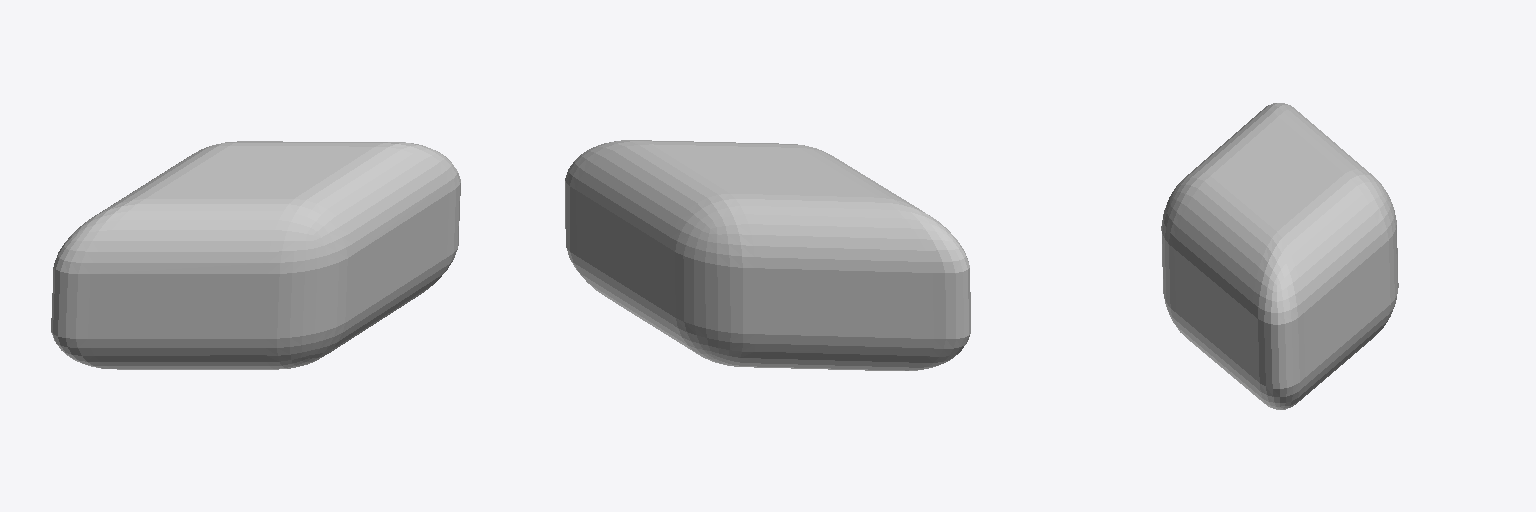
File: food.obj
The picture shows the model from 3 angles: view 1: azimuth 30°, elevation 25°; view 2: azimuth 150°, elevation 25°; view 3: azimuth 270°, elevation 25°; orthographic projection.
Visible parts, largest first — view 1: Cube; view 2: Cube; view 3: Cube.
Boxes of the visible parts, x1,y1,x2,y2 form: Cube: [51, 141, 460, 369]; Cube: [565, 140, 970, 370]; Cube: [1161, 103, 1398, 409].
Bounding box in the file's own units: 2 × 0.8037 × 1.02.